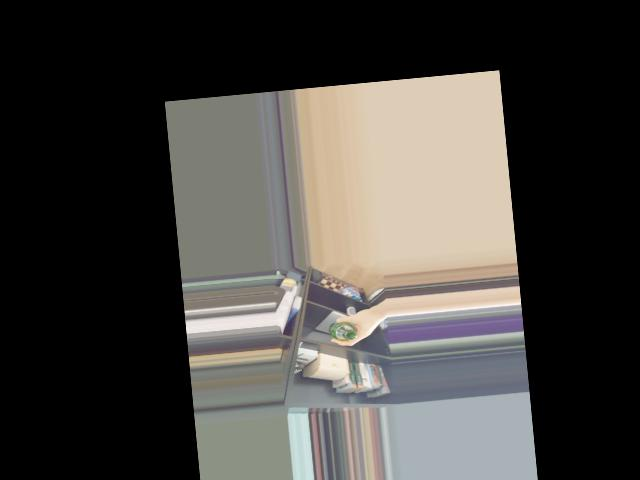beer: (328, 319, 357, 341)
